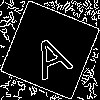A: (25, 25, 75, 81)
